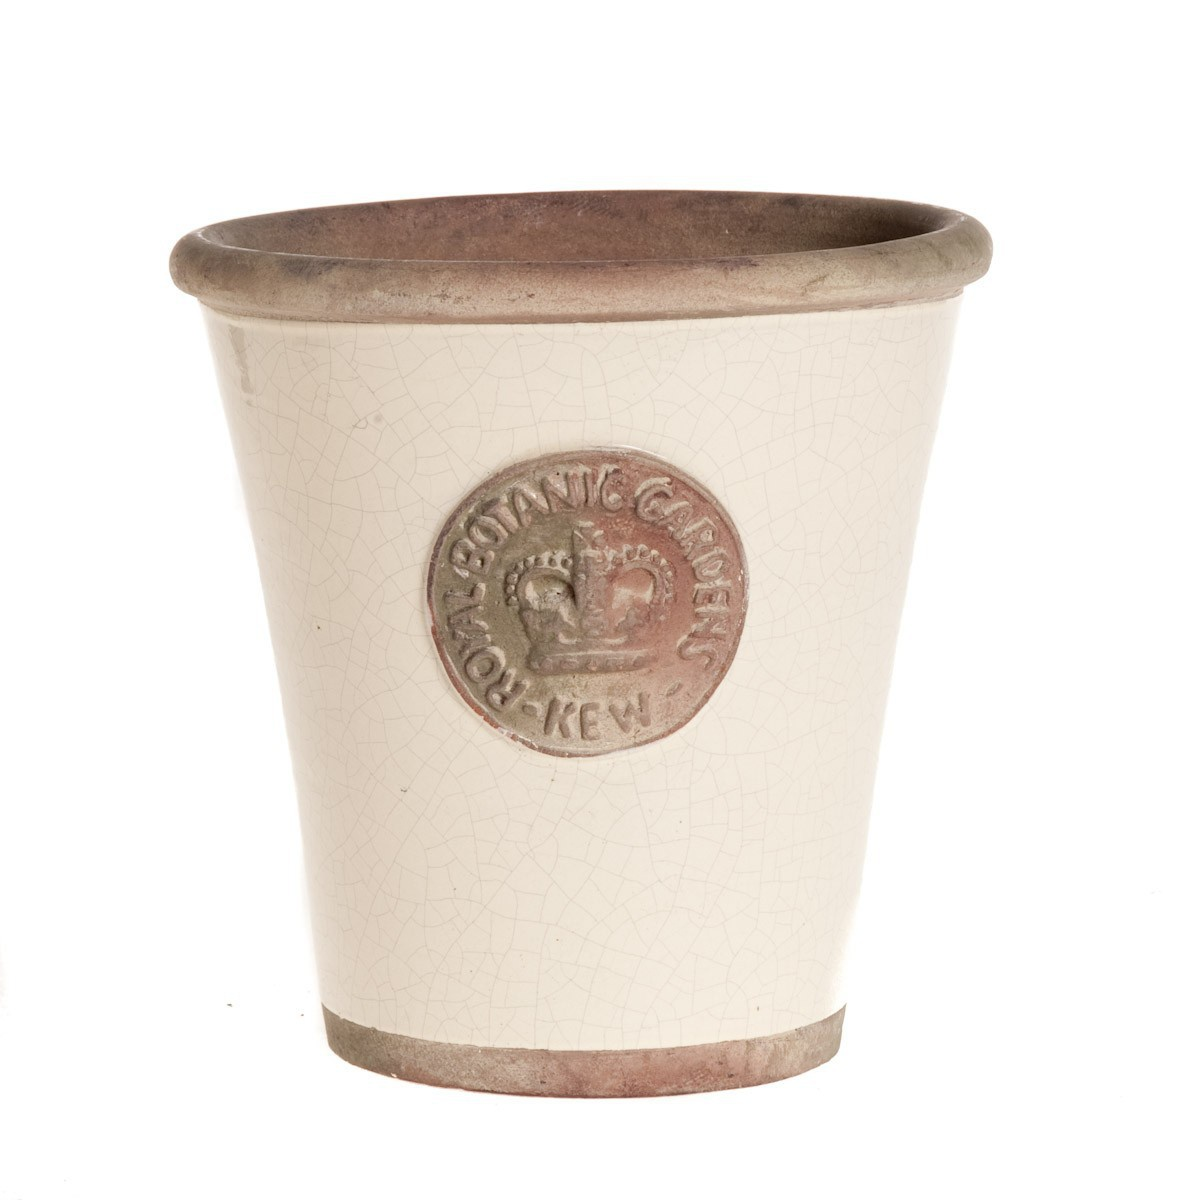flowerpot: (169, 182, 995, 1095)
